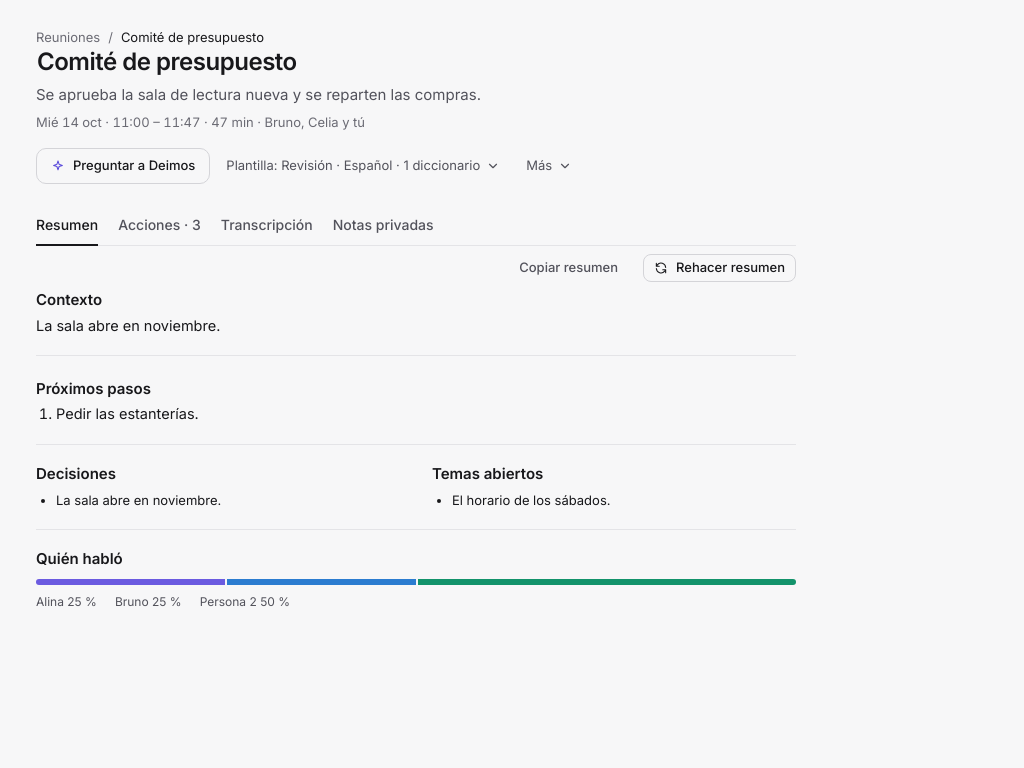
Test: «Rehacer resumen» in the Resumen › sits beside «Copiar resumen» and asks first, saying the hand-made version is kept
Click the button "Rehacer resumen" at (720, 268), box [643,254,796,282]
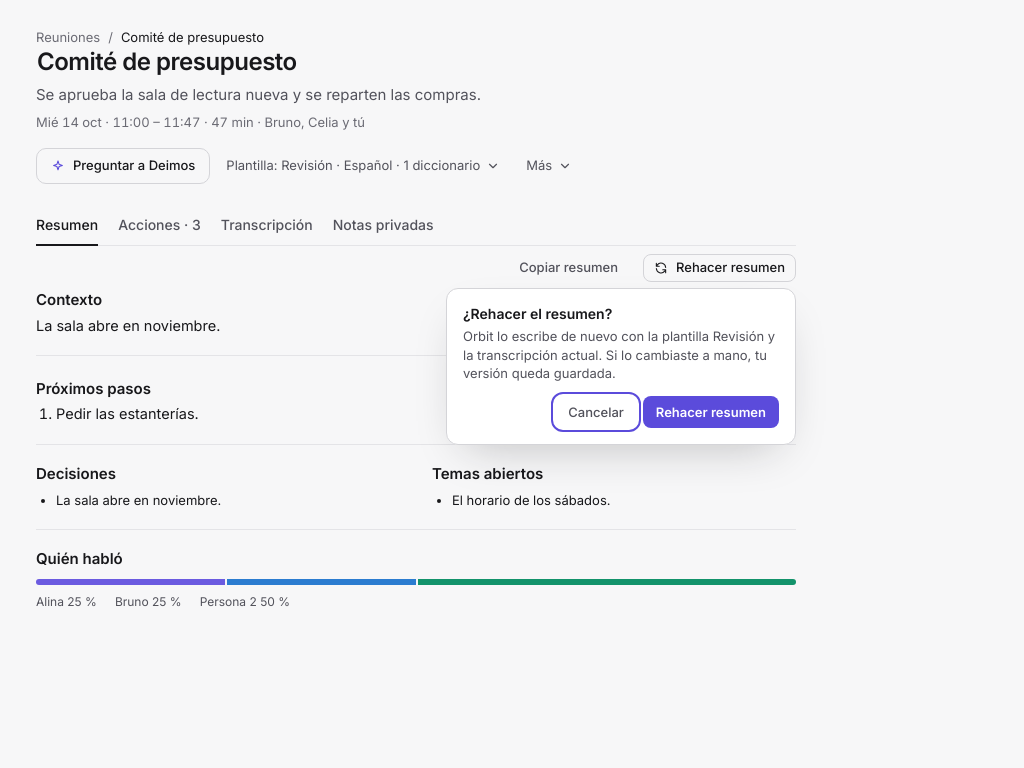
Check: the dialog "¿Rehacer el resumen?" shows "Orbit lo escribe de nuevo con la plantilla Revisión y la transcripción actual. Si lo cambiaste a mano, tu versión queda guardada.", box [463,328,775,381]
Click the button "Rehacer resumen" below "¿Rehacer el resumen?" at (711, 412), box [643,396,779,428]
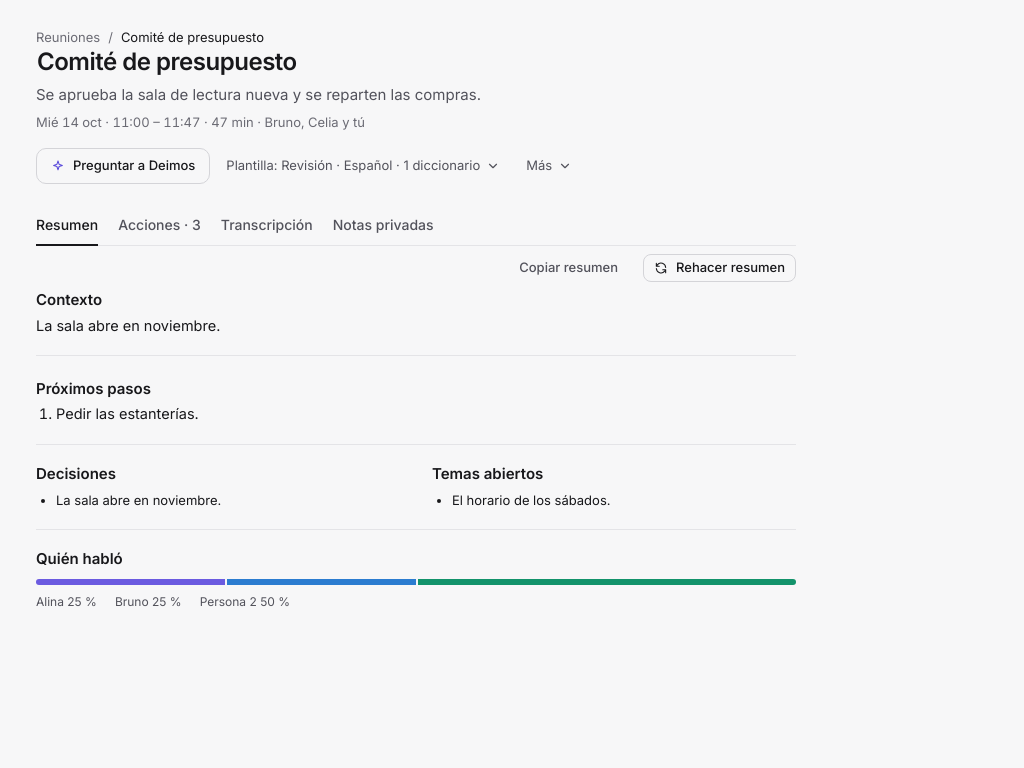
Check: the dialog is gone
